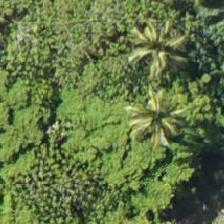coconut_tree: (105, 75, 195, 165), (116, 9, 206, 99)
